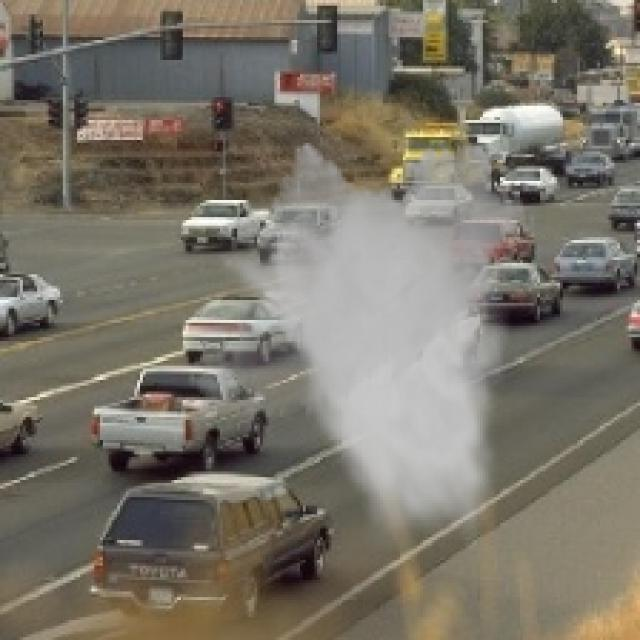smoke: (186, 132, 537, 552)
